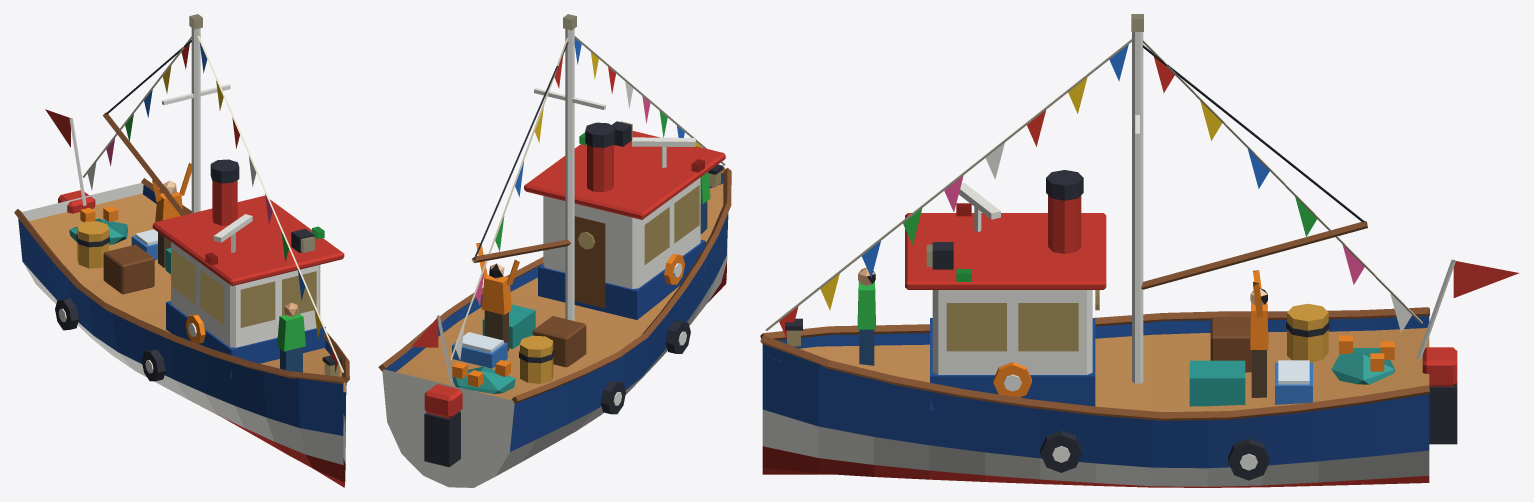
The model's file is boat.glb.
The picture shows the model from 3 angles, left to right: view 1: azimuth 30°, elevation 25°; view 2: azimuth 150°, elevation 25°; view 3: azimuth 270°, elevation 25°; orthographic projection. The views are drawn at different scales.
Parts seen in each view (by area): view 1: boat; view 2: boat; view 3: boat.
Part boxes in pixels (<box>): boat: <box>14,14,349,487</box>; boat: <box>378,14,731,487</box>; boat: <box>760,14,1519,487</box>.
Size of the model in its own units: 3.78 by 7.28 by 10.93.
2 materials, 2 textured.
